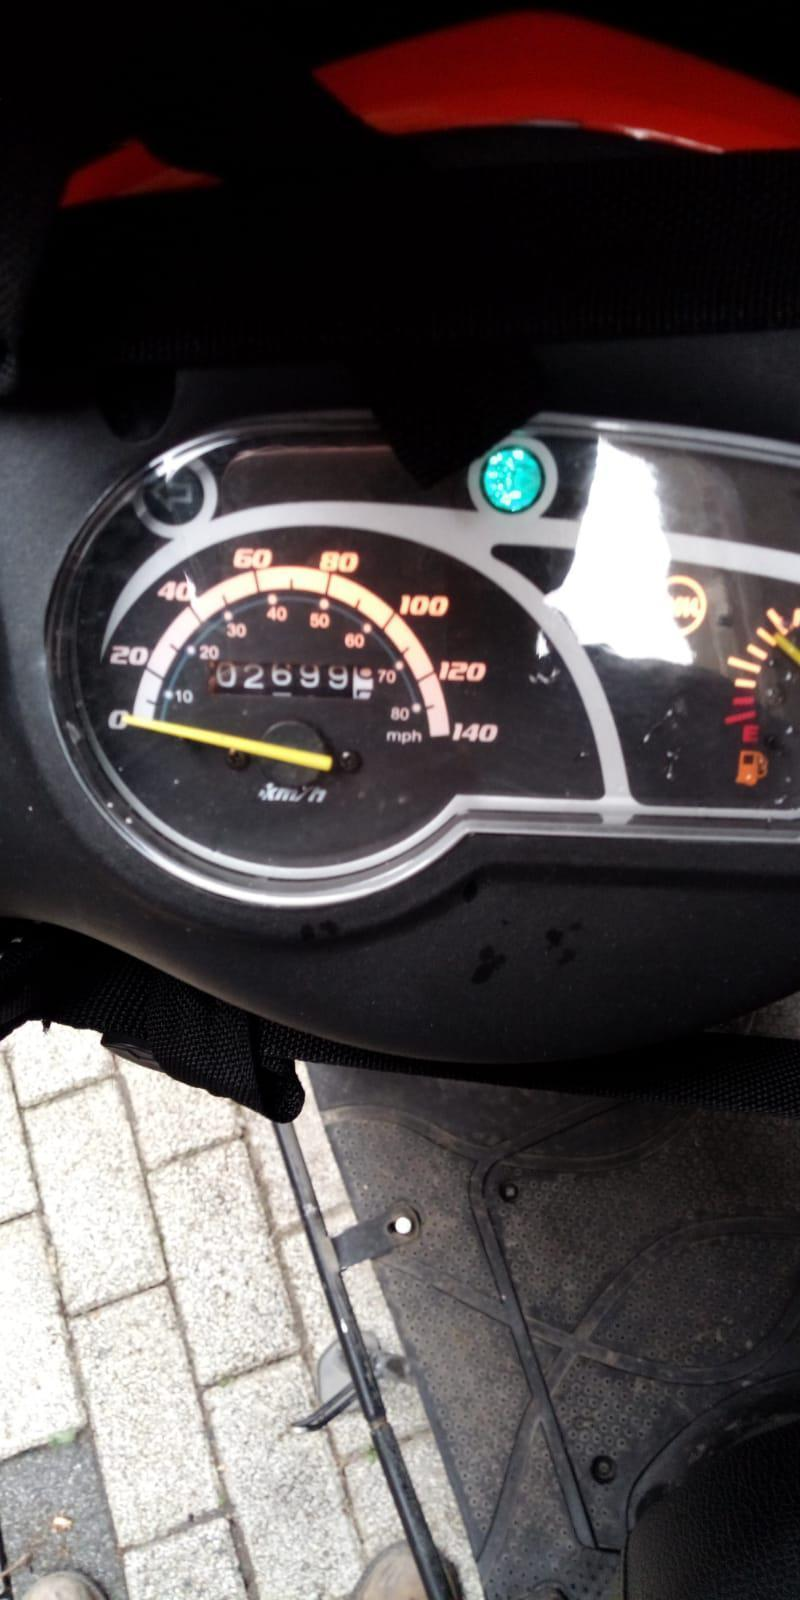0: (214, 661, 236, 694)
2: (241, 661, 265, 694)
6: (267, 660, 292, 690), (355, 659, 377, 684)
9: (297, 662, 322, 692), (327, 663, 350, 695)
odometer: (207, 659, 378, 703)
